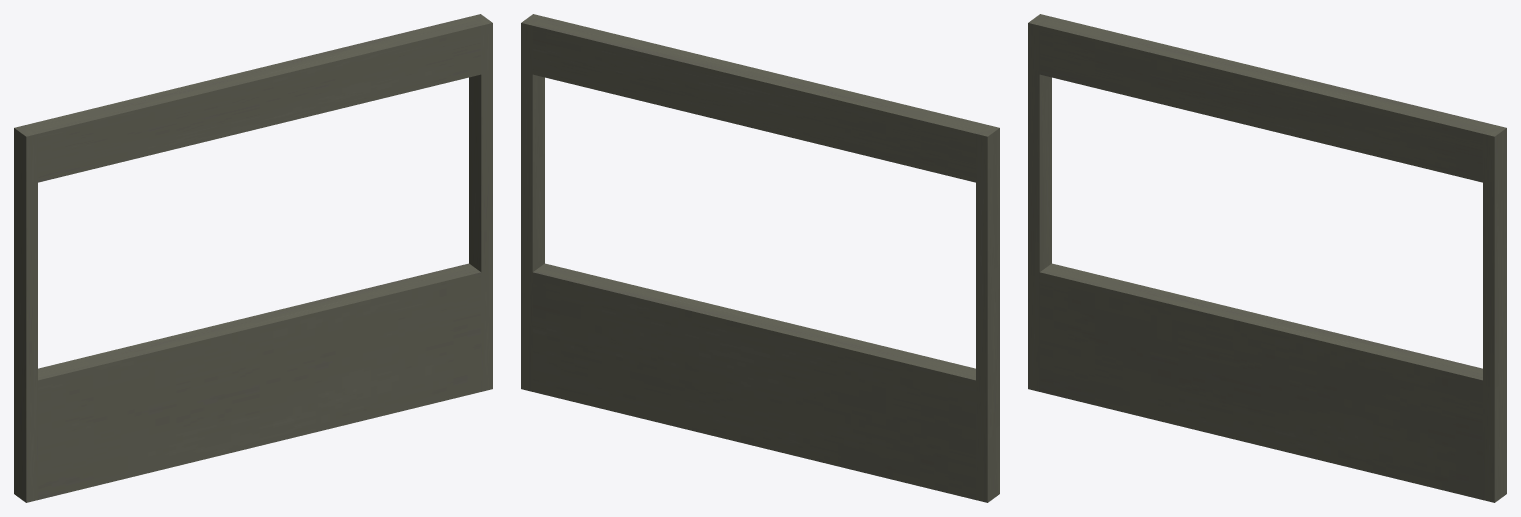
File: wall-window-4m.glb
3 renders of one model, left to right at view 1: azimuth 30°, elevation 25°; view 2: azimuth 150°, elevation 25°; view 3: azimuth 330°, elevation 25°, orthographic.
Visible parts, largest first — view 1: Below window.001, Above window.001, Pier, Pier.001; view 2: Below window.001, Above window.001, Pier, Pier.001; view 3: Below window.001, Above window.001, Pier.001, Pier.
Part boxes in pixels (<box>): Below window.001: <box>38,263,481,499</box>; Above window.001: <box>26,17,481,182</box>; Pier: <box>14,125,37,502</box>; Pier.001: <box>469,14,492,391</box>; Below window.001: <box>532,263,975,499</box>; Above window.001: <box>532,17,987,182</box>; Pier: <box>976,125,999,502</box>; Pier.001: <box>521,14,544,391</box>; Below window.001: <box>1039,263,1482,499</box>; Above window.001: <box>1039,17,1494,182</box>; Pier.001: <box>1483,125,1506,502</box>; Pier: <box>1028,14,1051,391</box>.
Size of the model in its own units: 4 by 3 by 0.18.
Materials: 1 (1 with a texture image).
